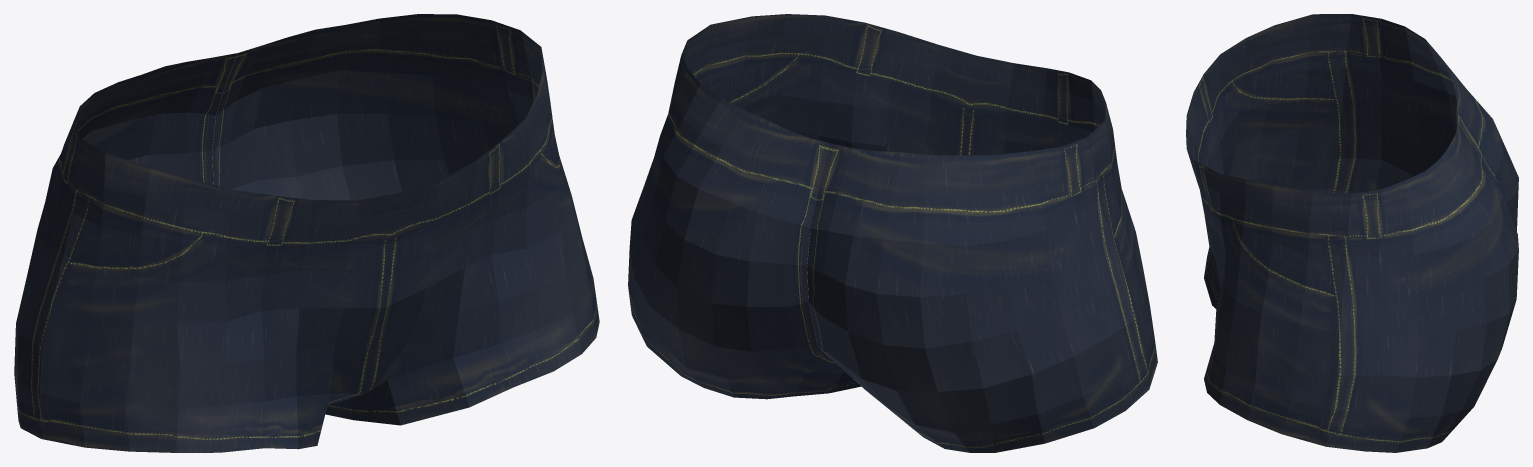
File: garment.glb
The picture shows the model from 3 angles, left to right: view 1: azimuth 30°, elevation 25°; view 2: azimuth 150°, elevation 25°; view 3: azimuth 270°, elevation 25°; orthographic projection. The views are drawn at different scales.
Visible parts, largest first — view 1: garment; view 2: garment; view 3: garment.
Part boxes in pixels (x1=…): garment: x1=14, y1=14, x2=599, y2=452; garment: x1=628, y1=14, x2=1157, y2=452; garment: x1=1186, y1=14, x2=1518, y2=452.
Size of the model in its own units: 3.76 by 2.17 by 2.36.
Materials: 1 (1 with a texture image).
